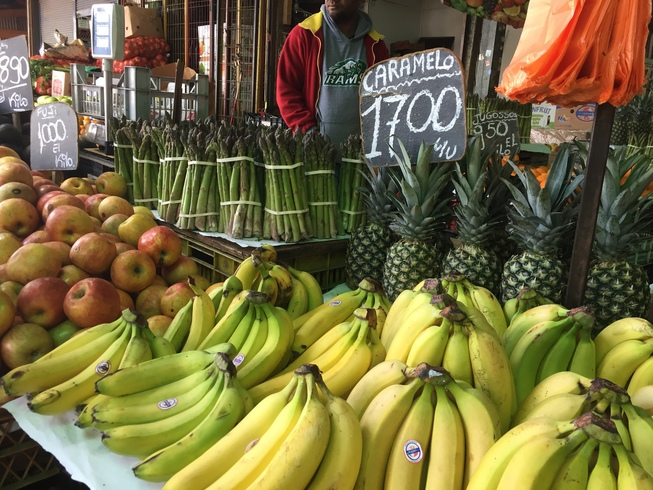precio: (356, 55, 468, 164), (30, 103, 80, 174), (472, 109, 518, 162), (1, 38, 33, 113)
